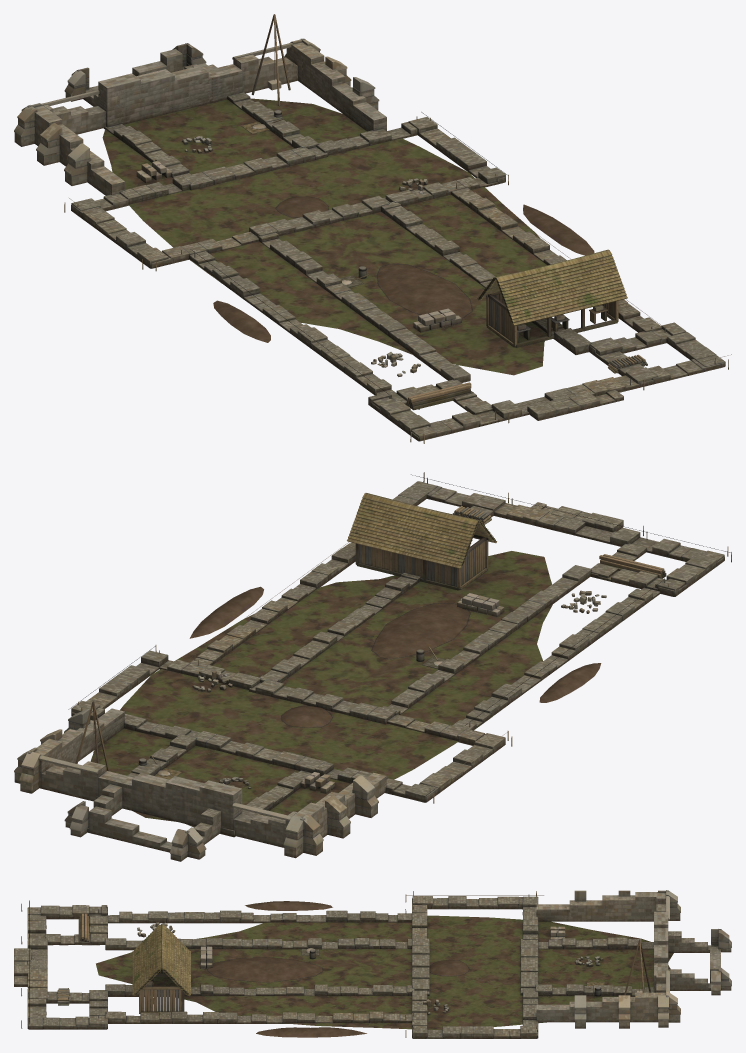
The model's file is cathedral_build1.glb.
3 views of the same model, one above another, from view 1: azimuth 30°, elevation 25°; view 2: azimuth 150°, elevation 25°; view 3: azimuth 270°, elevation 25° (orthographic). The views are drawn at different scales.
Visible parts, largest first — view 1: cathedral_build1_LOD0; view 2: cathedral_build1_LOD0; view 3: cathedral_build1_LOD0.
Part boxes in pixels (x1,y1,x2,y2): cathedral_build1_LOD0: (14, 14, 731, 443); cathedral_build1_LOD0: (14, 472, 731, 861); cathedral_build1_LOD0: (14, 890, 731, 1038).
Size of what is drawn, in the model's own units: 30.09 by 6.62 by 65.41.
1 material, 1 textured.
